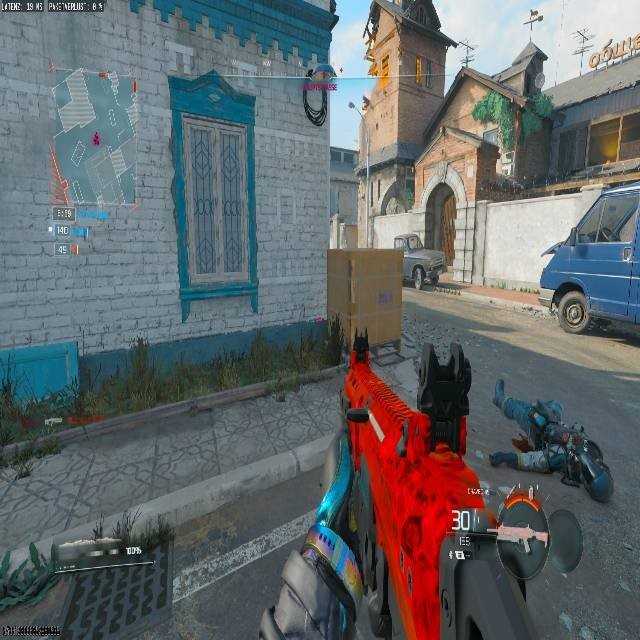head: (529, 401, 560, 437)
player: (489, 389, 612, 502)
